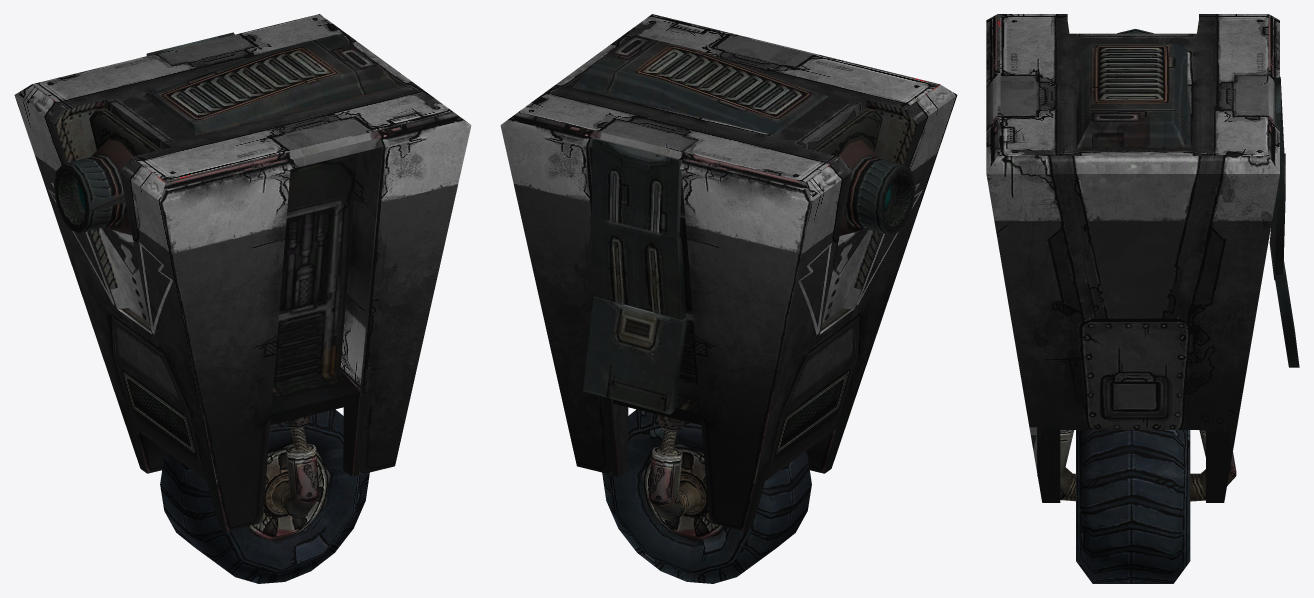
File: BrokenCrapTrapB.FBX
3 renders of one model, left to right at view 1: azimuth 30°, elevation 25°; view 2: azimuth 150°, elevation 25°; view 3: azimuth 270°, elevation 25°, orthographic.
Visible parts, largest first — view 1: BrokenClaptrap_02; view 2: BrokenClaptrap_02; view 3: BrokenClaptrap_02.
Part boxes in pixels (x1,y1,x2,y2): BrokenClaptrap_02: (14,14,471,583); BrokenClaptrap_02: (500,14,957,583); BrokenClaptrap_02: (986,14,1299,583).
Bounding box in the file's own units: 103 × 149 × 84.78.
